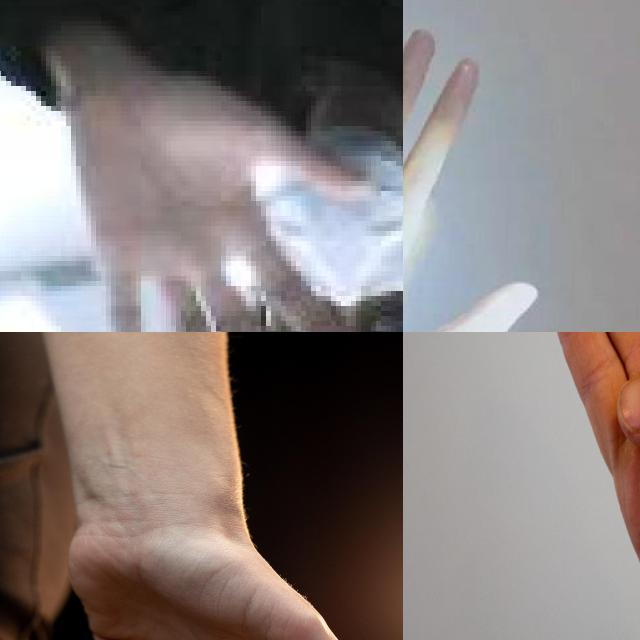hand: (61, 71, 376, 332), (403, 26, 564, 332), (31, 512, 403, 640), (541, 332, 640, 640)
